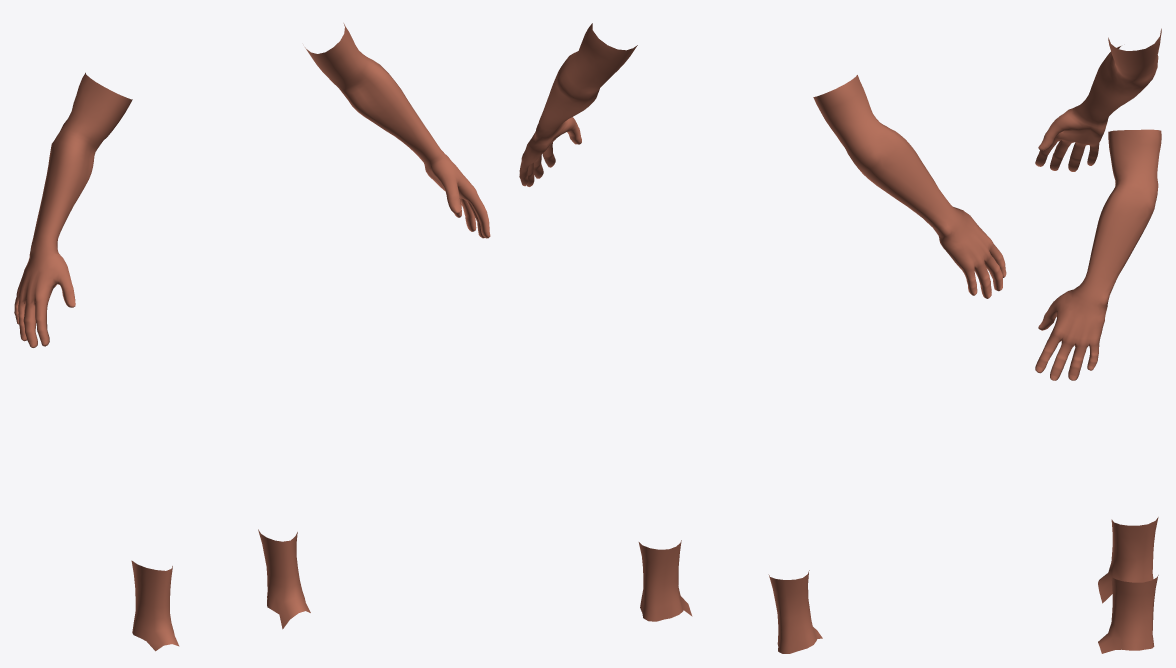
The model's file is skin1.glb.
The picture shows the model from 3 angles, left to right: view 1: azimuth 30°, elevation 25°; view 2: azimuth 150°, elevation 25°; view 3: azimuth 270°, elevation 25°; orthographic projection. The views are drawn at different scales.
Visible parts, largest first — view 1: Wolf3D_Body; view 2: Wolf3D_Body; view 3: Wolf3D_Body.
Boxes of the visible parts, bbox=[...] form: Wolf3D_Body: bbox=[14, 23, 490, 651]; Wolf3D_Body: bbox=[519, 23, 1006, 653]; Wolf3D_Body: bbox=[1035, 28, 1161, 653].
Size of the model in its own units: 1.06 by 1.28 by 0.2641.
1 material, 1 textured.
